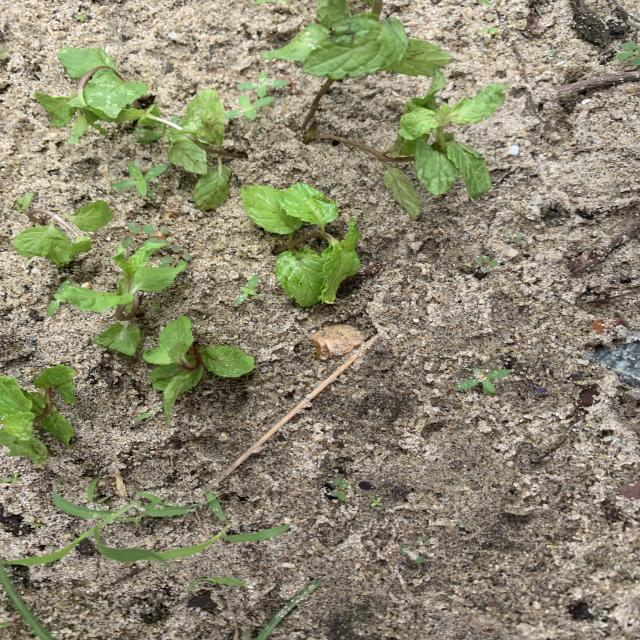crop: (306, 0, 507, 217), (128, 89, 247, 211), (242, 184, 359, 306), (63, 255, 184, 354), (144, 317, 254, 419), (36, 47, 147, 141), (1, 366, 75, 464), (14, 193, 111, 265)
weed: (5, 491, 197, 565), (156, 525, 290, 561), (257, 581, 321, 639), (112, 163, 166, 195), (456, 367, 511, 393), (237, 73, 290, 97), (232, 95, 274, 119), (48, 282, 71, 315), (237, 275, 259, 303), (618, 42, 639, 64), (112, 238, 133, 257), (476, 256, 499, 273), (161, 250, 190, 263), (332, 478, 349, 499), (501, 231, 522, 243), (1, 472, 19, 482), (482, 27, 499, 36), (371, 496, 382, 507), (544, 50, 557, 58), (76, 13, 87, 22), (1, 47, 8, 59)
